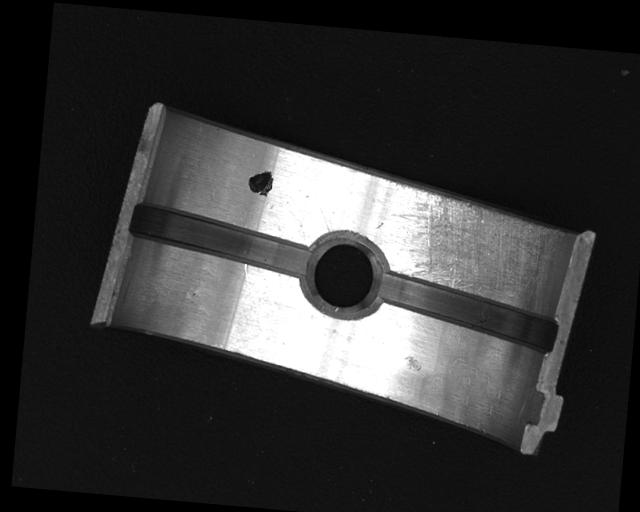blot: (247, 168, 274, 197)
bruise: (403, 354, 423, 373)
gap: (366, 269, 563, 356), (124, 201, 313, 279)
hole: (303, 232, 384, 319)
nick: (237, 262, 266, 332), (313, 196, 333, 234)
scratch: (382, 175, 570, 312)
